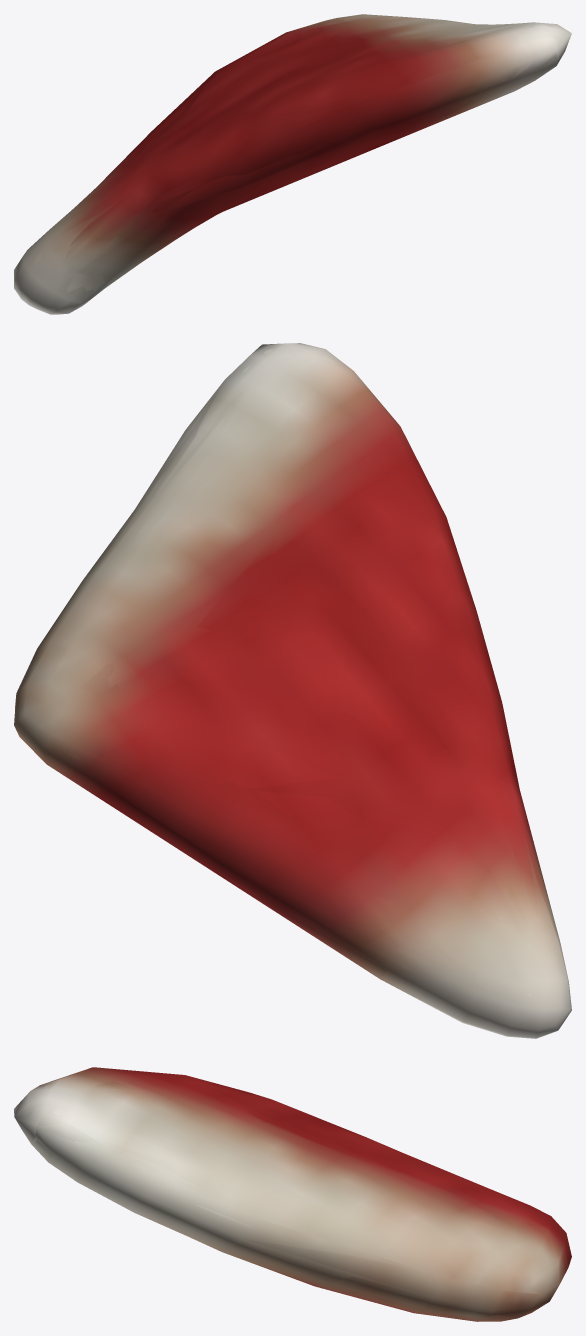
The model's file is R Piriformis.fbx.
3 renders of one model, top to bottom at view 1: azimuth 30°, elevation 25°; view 2: azimuth 150°, elevation 25°; view 3: azimuth 270°, elevation 25°, orthographic. The views are drawn at different scales.
Parts seen in each view (by area): view 1: R Piriformis, R Piriformis low, R Piriformis high; view 2: R Piriformis, R Piriformis low, R Piriformis high; view 3: R Piriformis, R Piriformis low, R Piriformis high.
Boxes of the visible parts, x1,y1,x2,y2 form: R Piriformis: (14, 14, 571, 314); R Piriformis low: (17, 14, 571, 312); R Piriformis high: (24, 22, 554, 299); R Piriformis: (14, 343, 571, 1038); R Piriformis low: (14, 343, 570, 1037); R Piriformis high: (30, 348, 564, 1024); R Piriformis: (14, 1067, 571, 1321); R Piriformis low: (14, 1081, 570, 1318); R Piriformis high: (33, 1079, 562, 1304).
Size of the model in its own units: 1.36 by 1.01 by 1.25.
Materials: 1 (1 with a texture image).
